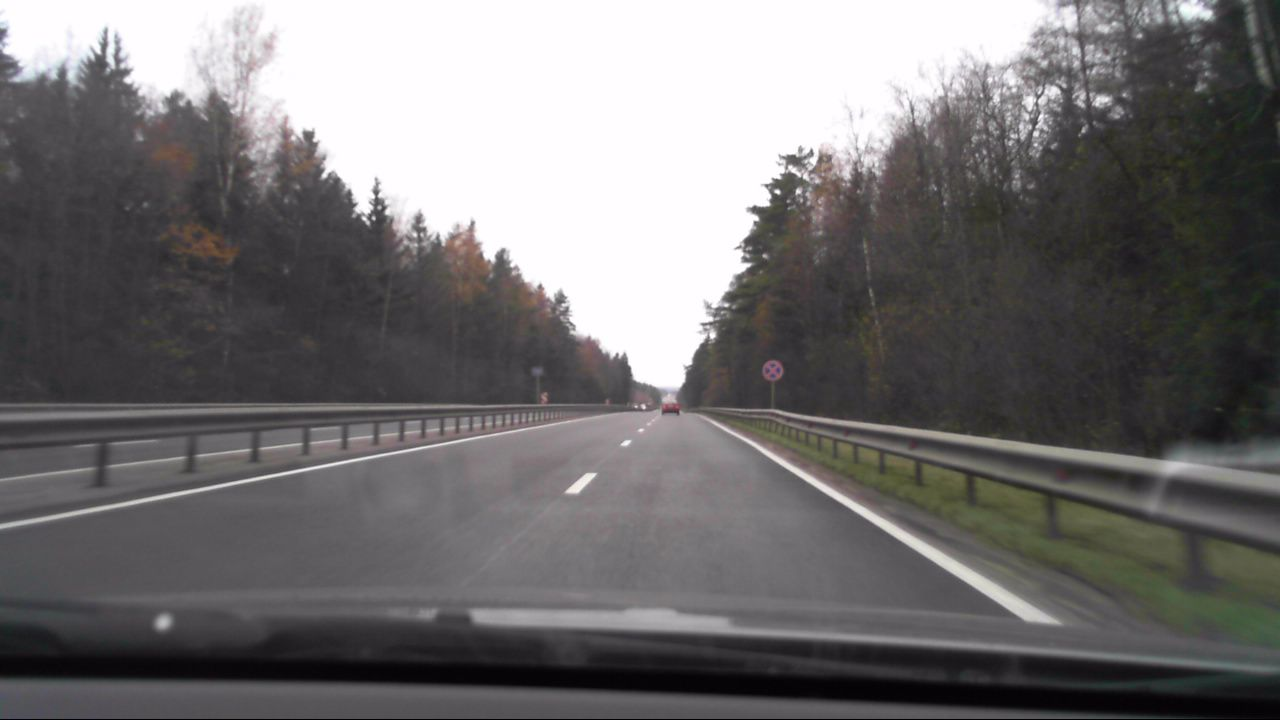No Parking: (757, 357, 784, 384)
